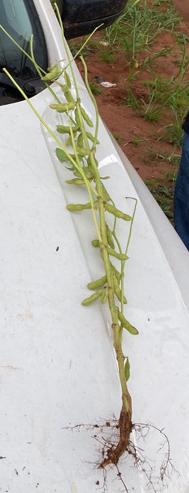soja: (113, 311, 141, 340), (104, 201, 133, 224), (110, 275, 132, 305), (53, 87, 82, 107), (102, 230, 124, 251), (65, 202, 97, 216), (107, 243, 129, 263), (61, 70, 79, 92), (48, 101, 76, 114), (56, 125, 80, 140), (80, 290, 102, 306), (80, 106, 96, 128), (88, 273, 107, 290), (86, 128, 105, 145), (123, 360, 137, 383), (109, 264, 127, 280), (70, 147, 92, 160), (66, 177, 92, 187), (43, 69, 60, 84), (102, 286, 112, 309), (89, 238, 97, 252)
